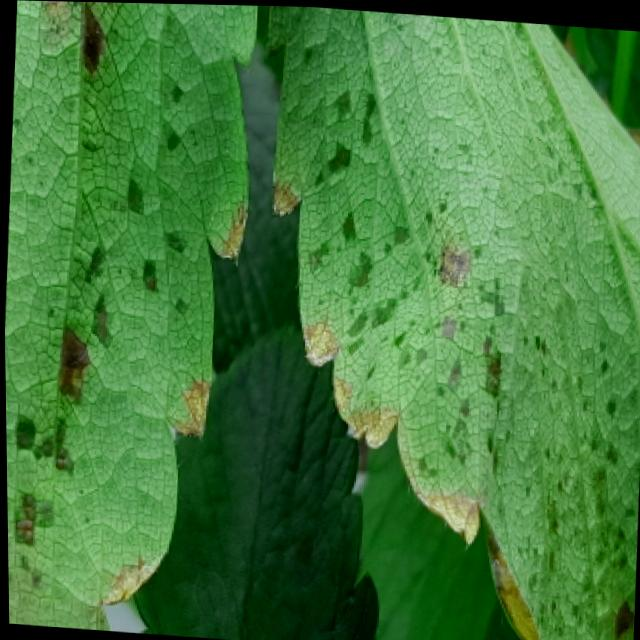Angular Leafspot: (263, 5, 640, 640), (4, 0, 258, 631)
